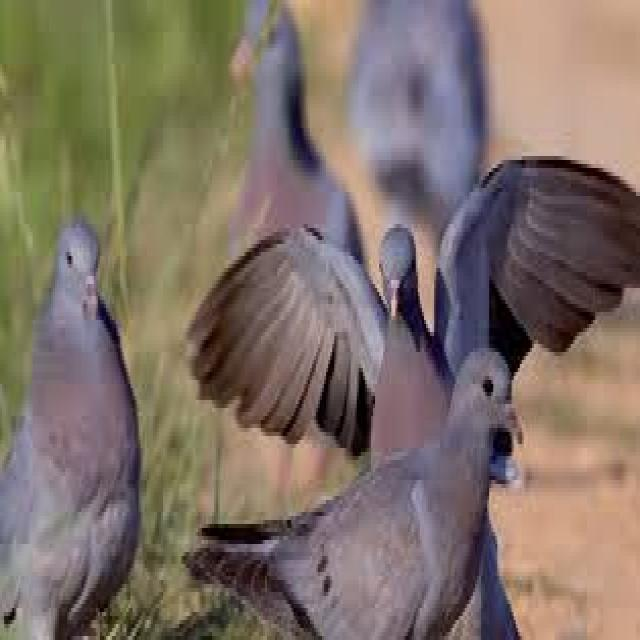pigeon: (176, 146, 640, 426)
